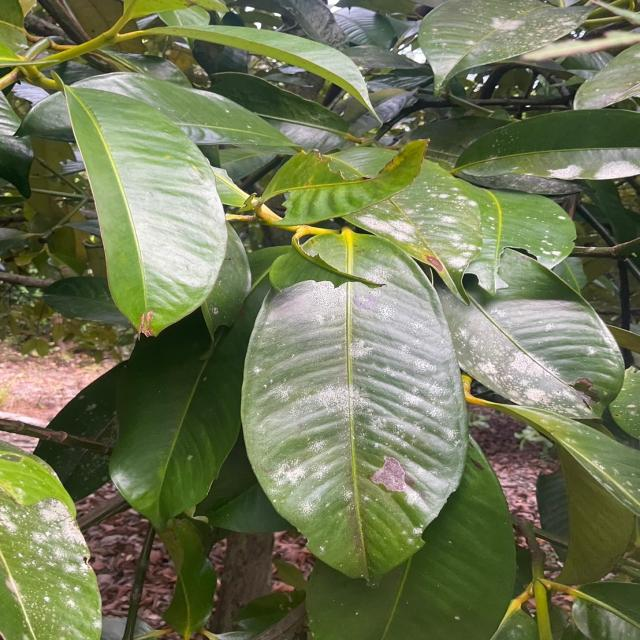Leaf Spot: (279, 345, 464, 524), (0, 472, 103, 634), (463, 328, 605, 417), (368, 196, 509, 254), (424, 11, 496, 95), (476, 0, 569, 48), (548, 151, 640, 198)
